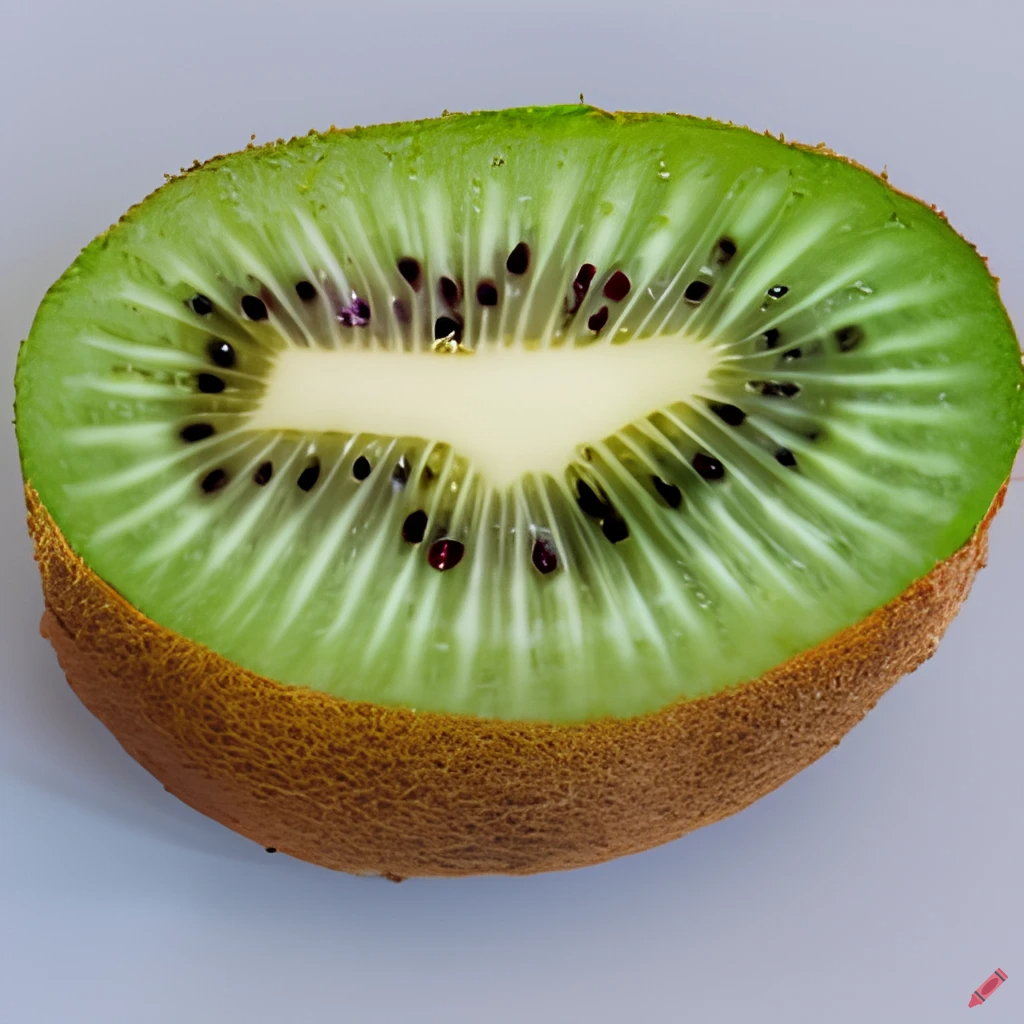Kiwi: (0, 107, 1004, 886)
